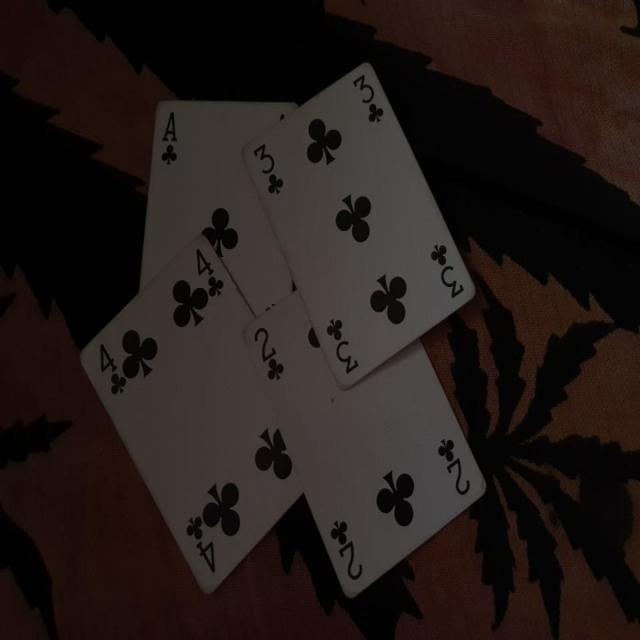2 Trefoils: (241, 290, 488, 597)
3 Trefoils: (242, 61, 478, 392)
4 Trefoils: (79, 230, 304, 596)
A Trefoils: (138, 95, 299, 320)
